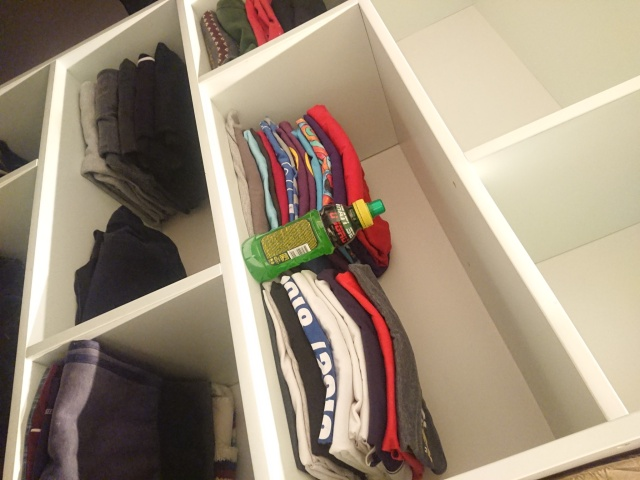Vindi Iso Sport Lemon-Grapefruit 500mL: (239, 196, 387, 286)
